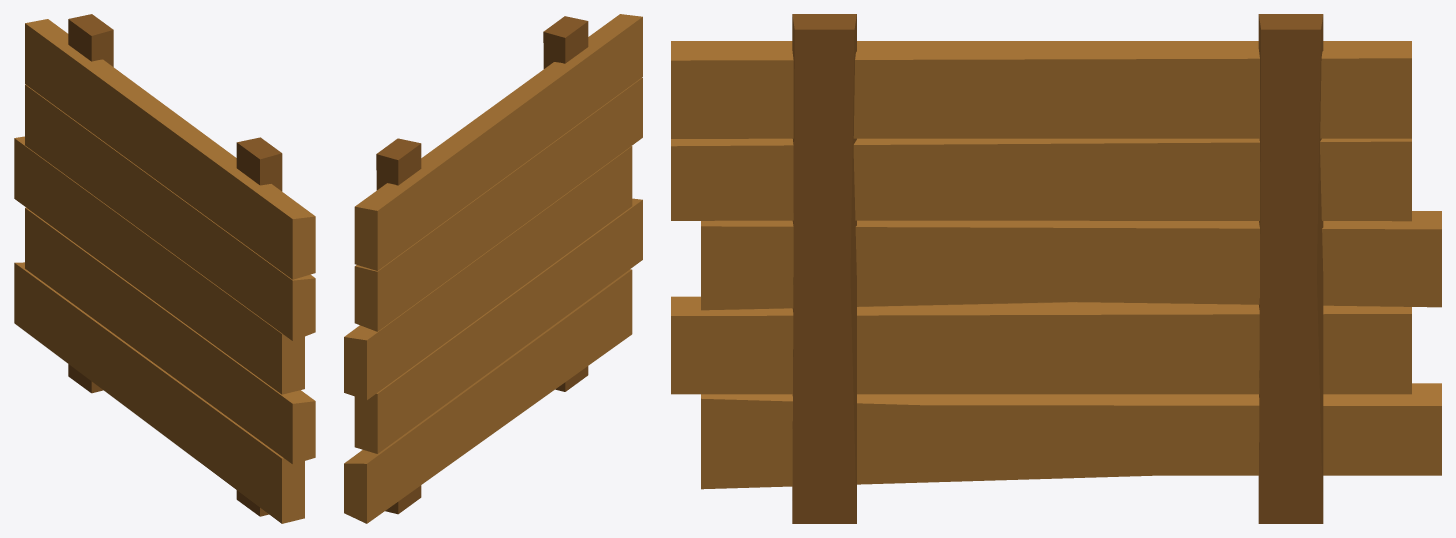
The model's file is WallPiece.fbx.
3 renders of one model, left to right at view 1: azimuth 30°, elevation 25°; view 2: azimuth 150°, elevation 25°; view 3: azimuth 270°, elevation 25°, orthographic. The views are drawn at different scales.
Visible parts, largest first — view 1: WallPiece; view 2: WallPiece; view 3: WallPiece.
Boxes of the visible parts, x1=… form: WallPiece: x1=14, y1=14, x2=315, y2=523; WallPiece: x1=344, y1=14, x2=642, y2=523; WallPiece: x1=671, y1=14, x2=1441, y2=523.
Bounding box in the file's own units: 14.7 × 147 × 208.
